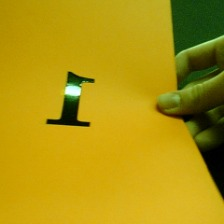orange1: (40, 68, 102, 139)
